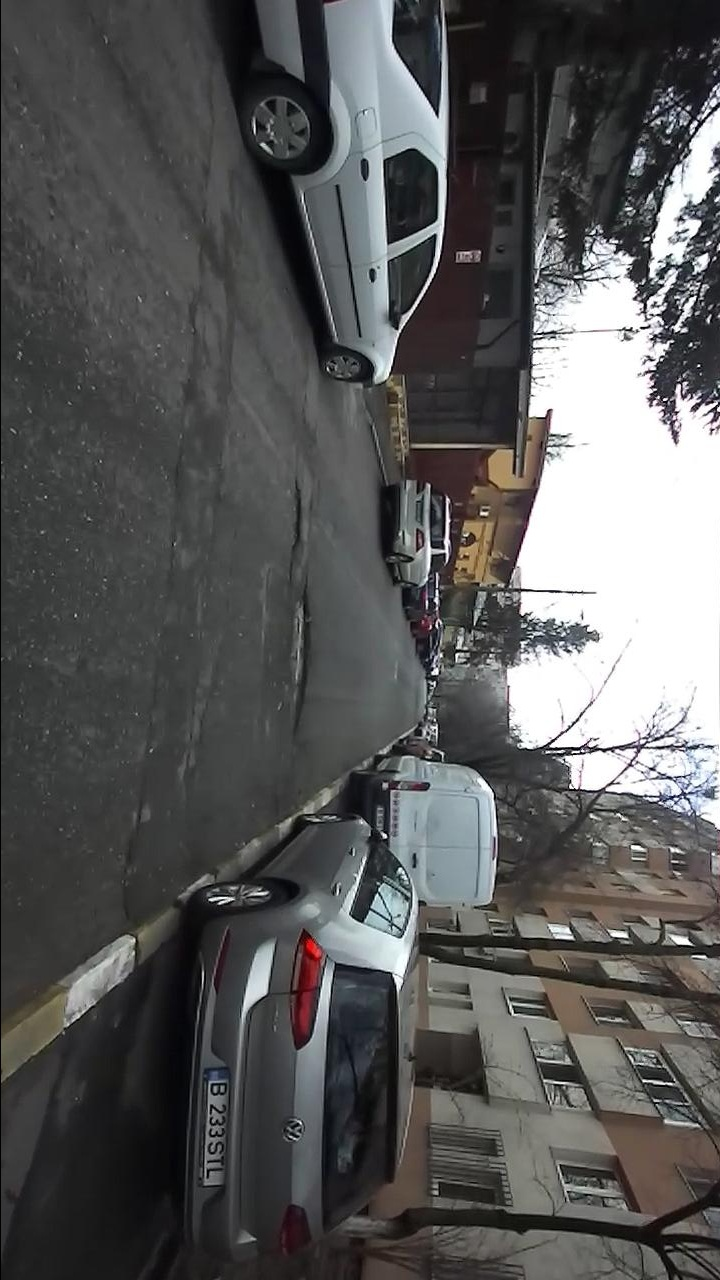pothole: (282, 587, 314, 736), (117, 797, 148, 916), (288, 477, 308, 554)
